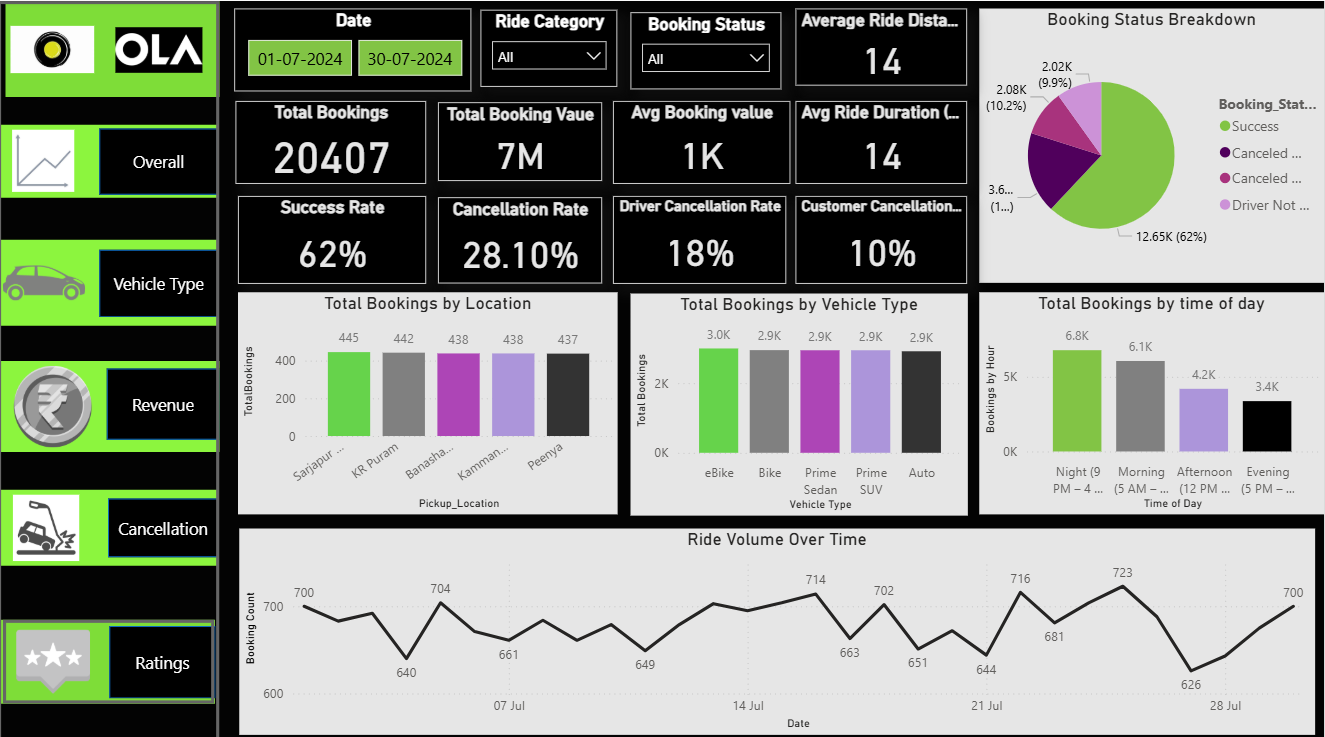

The page's visual inventory and layout, read from the dashboard file:
{"tool":"powerbi","page":{"name":"Overall","canvas":[1280,720],"ordinal":0},"visuals":[{"type":"group","id":"g1","title":"Group 6","box":[7.2,0,206.3,92.9],"z":0},{"type":"group","id":"g2","title":"Group 7","box":[0,119.4,212.3,70],"z":1000},{"type":"group","id":"g3","title":"Group 3","box":[0,230.4,212.3,83.2],"z":2000},{"type":"group","id":"g4","title":"Group 1","box":[0,597.2,209.9,80.8],"z":3000},{"type":"group","id":"g5","title":"Group 5","box":[0,471.7,212.3,73.6],"z":4000},{"type":"image","box":[7.2,0,90.3,92.9],"z":5000,"group":"g1"},{"type":"group","id":"g6","title":"Group 8","box":[2.4,347.5,210.6,88.1],"z":5000},{"type":"actionButton","box":[0,0,213.5,720.2],"z":6000},{"type":"image","box":[96.7,20.2,117.2,53.9],"z":6000,"group":"g1"},{"type":"image","box":[0,471.7,92.1,73.6],"z":7000,"group":"g7"},{"type":"actionButton","box":[4.8,597.2,203.9,80.8],"z":7000},{"type":"image","box":[0,230.4,89,83.2],"z":8000,"group":"g3"},{"type":"lineChart","title":"Ride Volume Over Time","fields":{"Category":["July.Date"],"Y":["CountNonNull(July.Booking_ID)"]},"box":[232.7,509,1038.6,199.2],"z":8000},{"type":"pieChart","title":"Booking Status Breakdown","fields":{"Category":["July.Booking_Status"],"Y":["CountNonNull(July.Booking_Status)"]},"box":[947.3,7.7,332.9,264.8],"z":9000},{"type":"slicer","title":"Date","fields":{"Values":["July.Date"]},"box":[227.5,7.7,229,80],"z":10000},{"type":"image","box":[0,597.2,106.2,80.8],"z":10000,"group":"g4"},{"type":"card","title":"Total Bookings","fields":{"Values":["Count(July.Booking_ID)"]},"box":[228.8,96.4,183.8,79.7],"z":11000},{"type":"image","box":[0,119.4,86.6,70],"z":11000,"group":"g8"},{"type":"image","box":[2.4,347.5,100.7,88.1],"z":11001,"group":"g6"},{"type":"group","id":"g7","title":"Group 4","box":[0,471.7,92.1,73.6],"z":11005,"group":"g5"},{"type":"group","id":"g8","title":"Group 2","box":[0,119.4,86.6,70],"z":11007,"group":"g2"},{"type":"shape","box":[97.9,123,114.4,63.9],"z":11014,"group":"g2"},{"type":"shape","box":[97.7,239.5,114.6,65.1],"z":11015,"group":"g3"},{"type":"shape","box":[104.4,354.3,108.6,68.8],"z":11016,"group":"g6"},{"type":"shape","box":[106.2,480.5,106.2,56.7],"z":11017,"group":"g5"},{"type":"shape","box":[107.4,603.2,102.5,70],"z":11018,"group":"g4"},{"type":"card","title":"Total Booking Vaue","fields":{"Values":["Sum(July.Booking_Value)"]},"box":[424.2,97.7,158.1,75.8],"z":12000},{"type":"card","title":"Success Rate","fields":{"Values":["Bookings.SuccessRate%"]},"box":[231.4,187.7,181.2,84.8],"z":13000},{"type":"card","title":"Cancellation Rate","fields":{"Values":["July.CanceledPercentage"]},"box":[424.7,189.4,158,83.2],"z":14000},{"type":"card","title":"Driver Cancellation Rate","fields":{"Values":["Bookings.Driver Cancellation Rate %"]},"box":[593.9,187.7,167.1,84.8],"z":15000},{"type":"card","title":"Customer Cancellation Rate","fields":{"Values":["Bookings.Customer Cancellation Rate %"]},"box":[770,187.7,165.8,84.8],"z":16000},{"type":"card","title":"Avg Booking value","fields":{"Values":["Bookings.Avg Booking Value per Ride"]},"box":[593.9,96.4,171,79.7],"z":17000},{"type":"card","title":"Average Ride Distance(km)","fields":{"Values":["Bookings.Avg Ride Distance"]},"box":[770,7.7,165.8,74.6],"z":18000},{"type":"card","title":"Avg Ride Duration (mins)","fields":{"Values":["Bookings.Avg Ride Distance"]},"box":[770,96.4,165.8,79.7],"z":19000},{"type":"columnChart","title":"Total Bookings by Vehicle Type","fields":{"Category":["Bookings.Vehicle_Type"],"Y":["Bookings.TotalBookings"]},"box":[610.5,282.3,325.7,214.7],"z":20000},{"type":"columnChart","title":"Total Bookings by Location","fields":{"Category":["Bookings.Pickup_Location"],"Y":["Bookings.TotalBookings"]},"box":[231.6,281.1,366.8,214.7],"z":21000},{"type":"columnChart","title":"Total Bookings by time of day","fields":{"Category":["Bookings.Time of Day"],"Y":["Bookings.Bookings by Hour"]},"box":[947.3,281.5,332.9,214.7],"z":22000},{"type":"slicer","title":"Ride Category","fields":{"Values":["Bookings.Vehicle_Type"]},"box":[465.3,9,132.4,74.6],"z":23000},{"type":"slicer","title":"Booking Status","fields":{"Values":["Bookings.Booking_Status"]},"box":[610.6,10.3,145.3,74.6],"z":24000}]}

Visuals, with their boxes in screenshot pixels (x1, y1, x2, y2), scaled from the page's 1280x720 canvas onto the 1325x737 screenshot:
"Group 6" group: detection(7, 0, 221, 95)
"Group 7" group: detection(0, 122, 220, 194)
"Group 3" group: detection(0, 236, 220, 321)
"Group 1" group: detection(0, 611, 217, 694)
"Group 5" group: detection(0, 483, 220, 558)
image: detection(7, 0, 101, 95)
"Group 8" group: detection(2, 356, 220, 446)
actionButton: detection(0, 0, 221, 736)
image: detection(100, 21, 221, 76)
image: detection(0, 483, 95, 558)
actionButton: detection(5, 611, 216, 694)
image: detection(0, 236, 92, 321)
"Ride Volume Over Time" lineChart: detection(241, 521, 1316, 725)
"Booking Status Breakdown" pieChart: detection(981, 8, 1324, 279)
"Date" slicer: detection(235, 8, 473, 90)
image: detection(0, 611, 110, 694)
"Total Bookings" card: detection(237, 99, 427, 180)
image: detection(0, 122, 90, 194)
image: detection(2, 356, 107, 446)
"Group 4" group: detection(0, 483, 95, 558)
"Group 2" group: detection(0, 122, 90, 194)
shape: detection(101, 126, 220, 191)
shape: detection(101, 245, 220, 312)
shape: detection(108, 363, 220, 433)
shape: detection(110, 492, 220, 550)
shape: detection(111, 617, 217, 689)
"Total Booking Vaue" card: detection(439, 100, 603, 178)
"Success Rate" card: detection(240, 192, 427, 279)
"Cancellation Rate" card: detection(440, 194, 603, 279)
"Driver Cancellation Rate" card: detection(615, 192, 788, 279)
"Customer Cancellation Rate" card: detection(797, 192, 969, 279)
"Avg Booking value" card: detection(615, 99, 792, 180)
"Average Ride Distance(km)" card: detection(797, 8, 969, 84)
"Avg Ride Duration (mins)" card: detection(797, 99, 969, 180)
"Total Bookings by Vehicle Type" columnChart: detection(632, 289, 969, 509)
"Total Bookings by Location" columnChart: detection(240, 288, 619, 508)
"Total Bookings by time of day" columnChart: detection(981, 288, 1324, 508)
"Ride Category" slicer: detection(482, 9, 619, 86)
"Booking Status" slicer: detection(632, 11, 782, 87)
